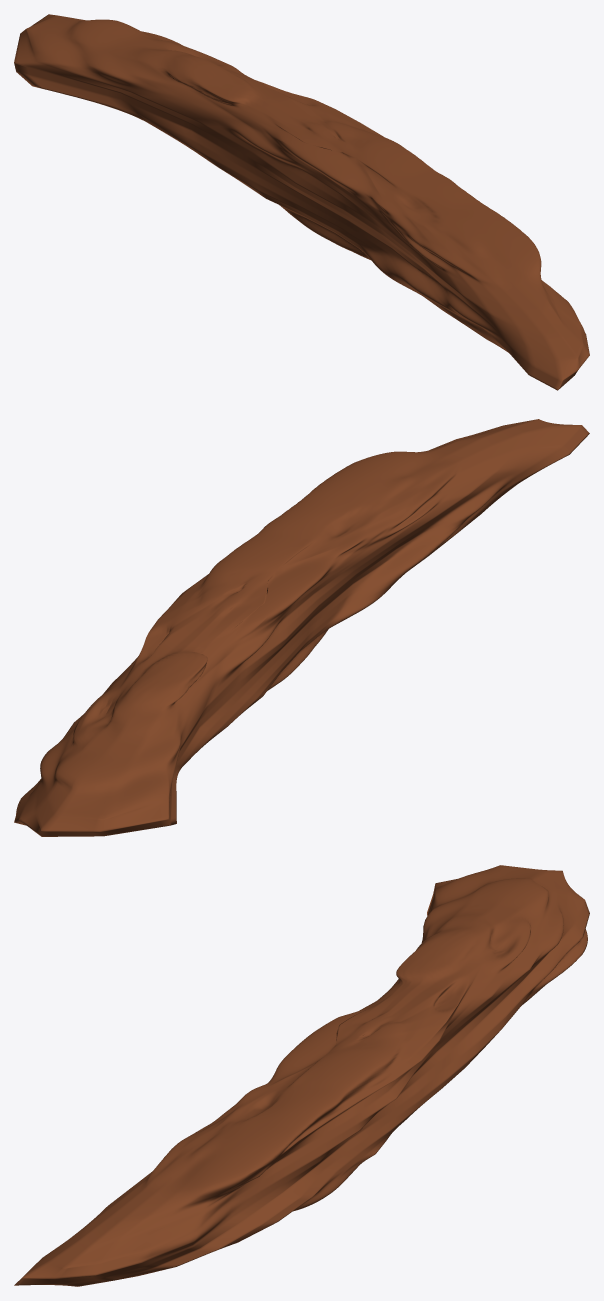
3 views of the same model, one above another, from view 1: azimuth 30°, elevation 25°; view 2: azimuth 150°, elevation 25°; view 3: azimuth 330°, elevation 25° (orthographic). The views are drawn at different scales.
Visible parts, largest first — view 1: Sphere; view 2: Sphere; view 3: Sphere.
Part boxes in pixels (left/top/right/bottom): Sphere: left=14, top=14, right=589, bottom=390; Sphere: left=14, top=419, right=589, bottom=836; Sphere: left=14, top=865, right=589, bottom=1286.
Size of the model in its own units: 80.12 by 35.28 by 385.
